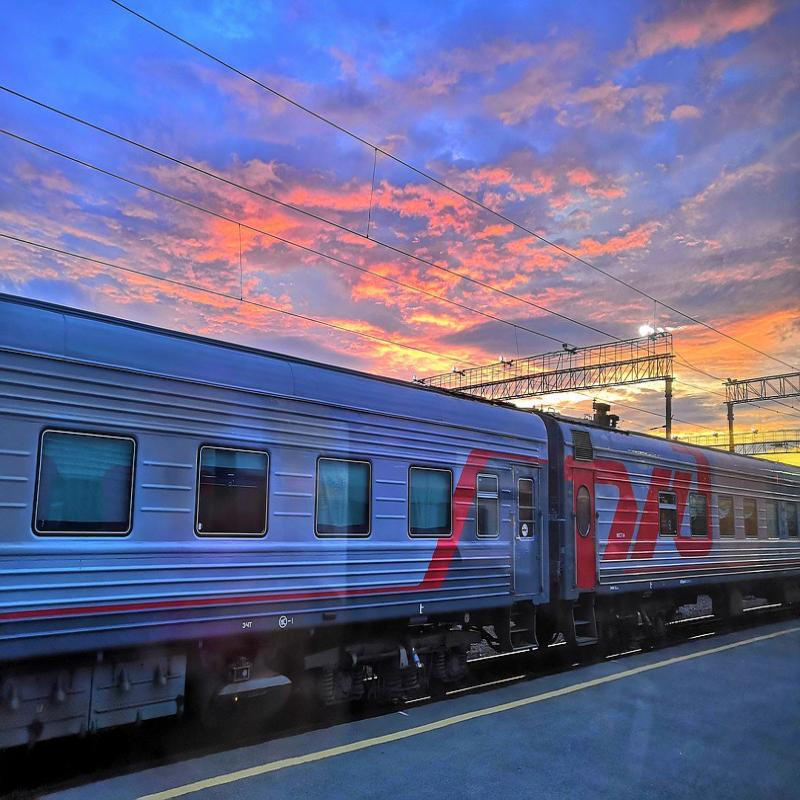train: (1, 267, 560, 770), (549, 380, 800, 662)
